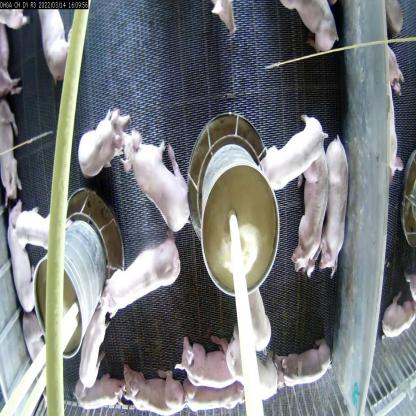Pig: (123, 125, 191, 231), (258, 105, 326, 206), (102, 235, 184, 312), (275, 338, 334, 416), (295, 156, 332, 278), (178, 336, 248, 395), (325, 131, 352, 276), (70, 300, 113, 388), (282, 0, 340, 60), (78, 105, 124, 175), (120, 366, 182, 416), (7, 206, 35, 309), (0, 94, 23, 216), (78, 370, 127, 415), (40, 6, 66, 86), (18, 203, 53, 261)
